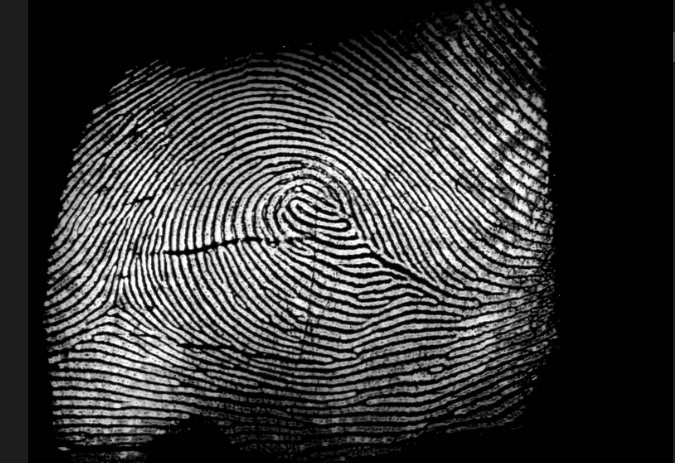nucelo: (280, 180, 337, 234)
verticilo: (87, 287, 142, 330), (464, 289, 493, 315)
